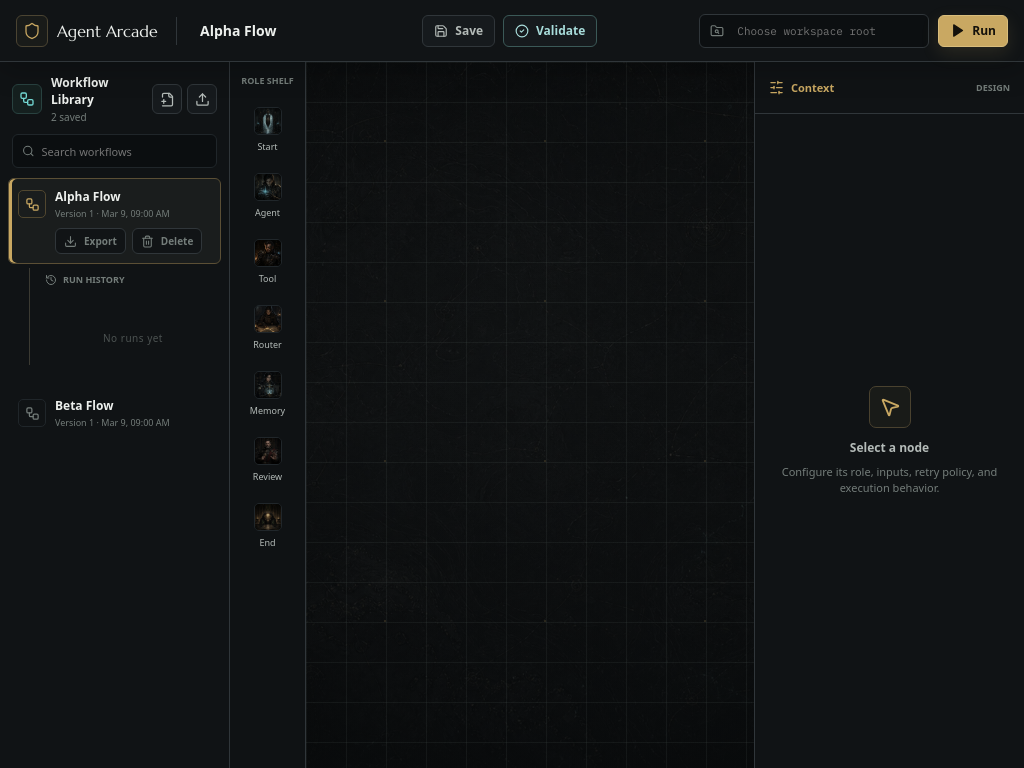
App — unified workspace shell › New starts an empty untitled canvas
The width and height of the screenshot is (1024, 768).
Click the button with test id "new-workflow-btn": [167, 99] box [152,84,182,114]
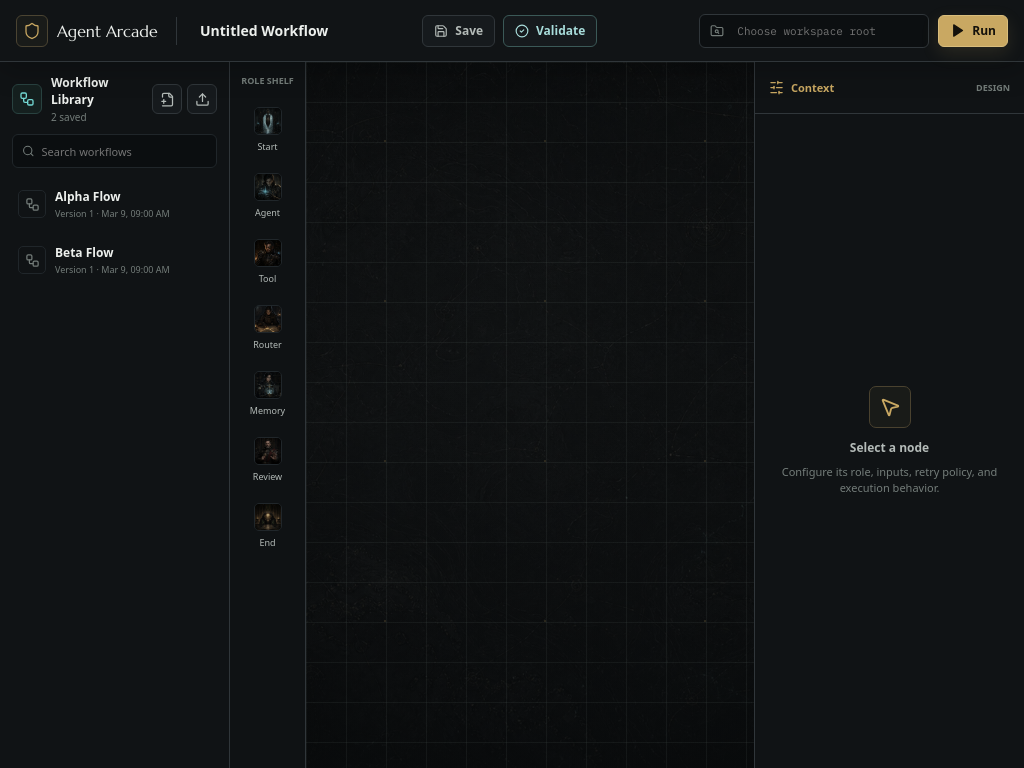
Expected: the field with test id "workflow-name-input" holds "Untitled Workflow", [189,14,414,48]
